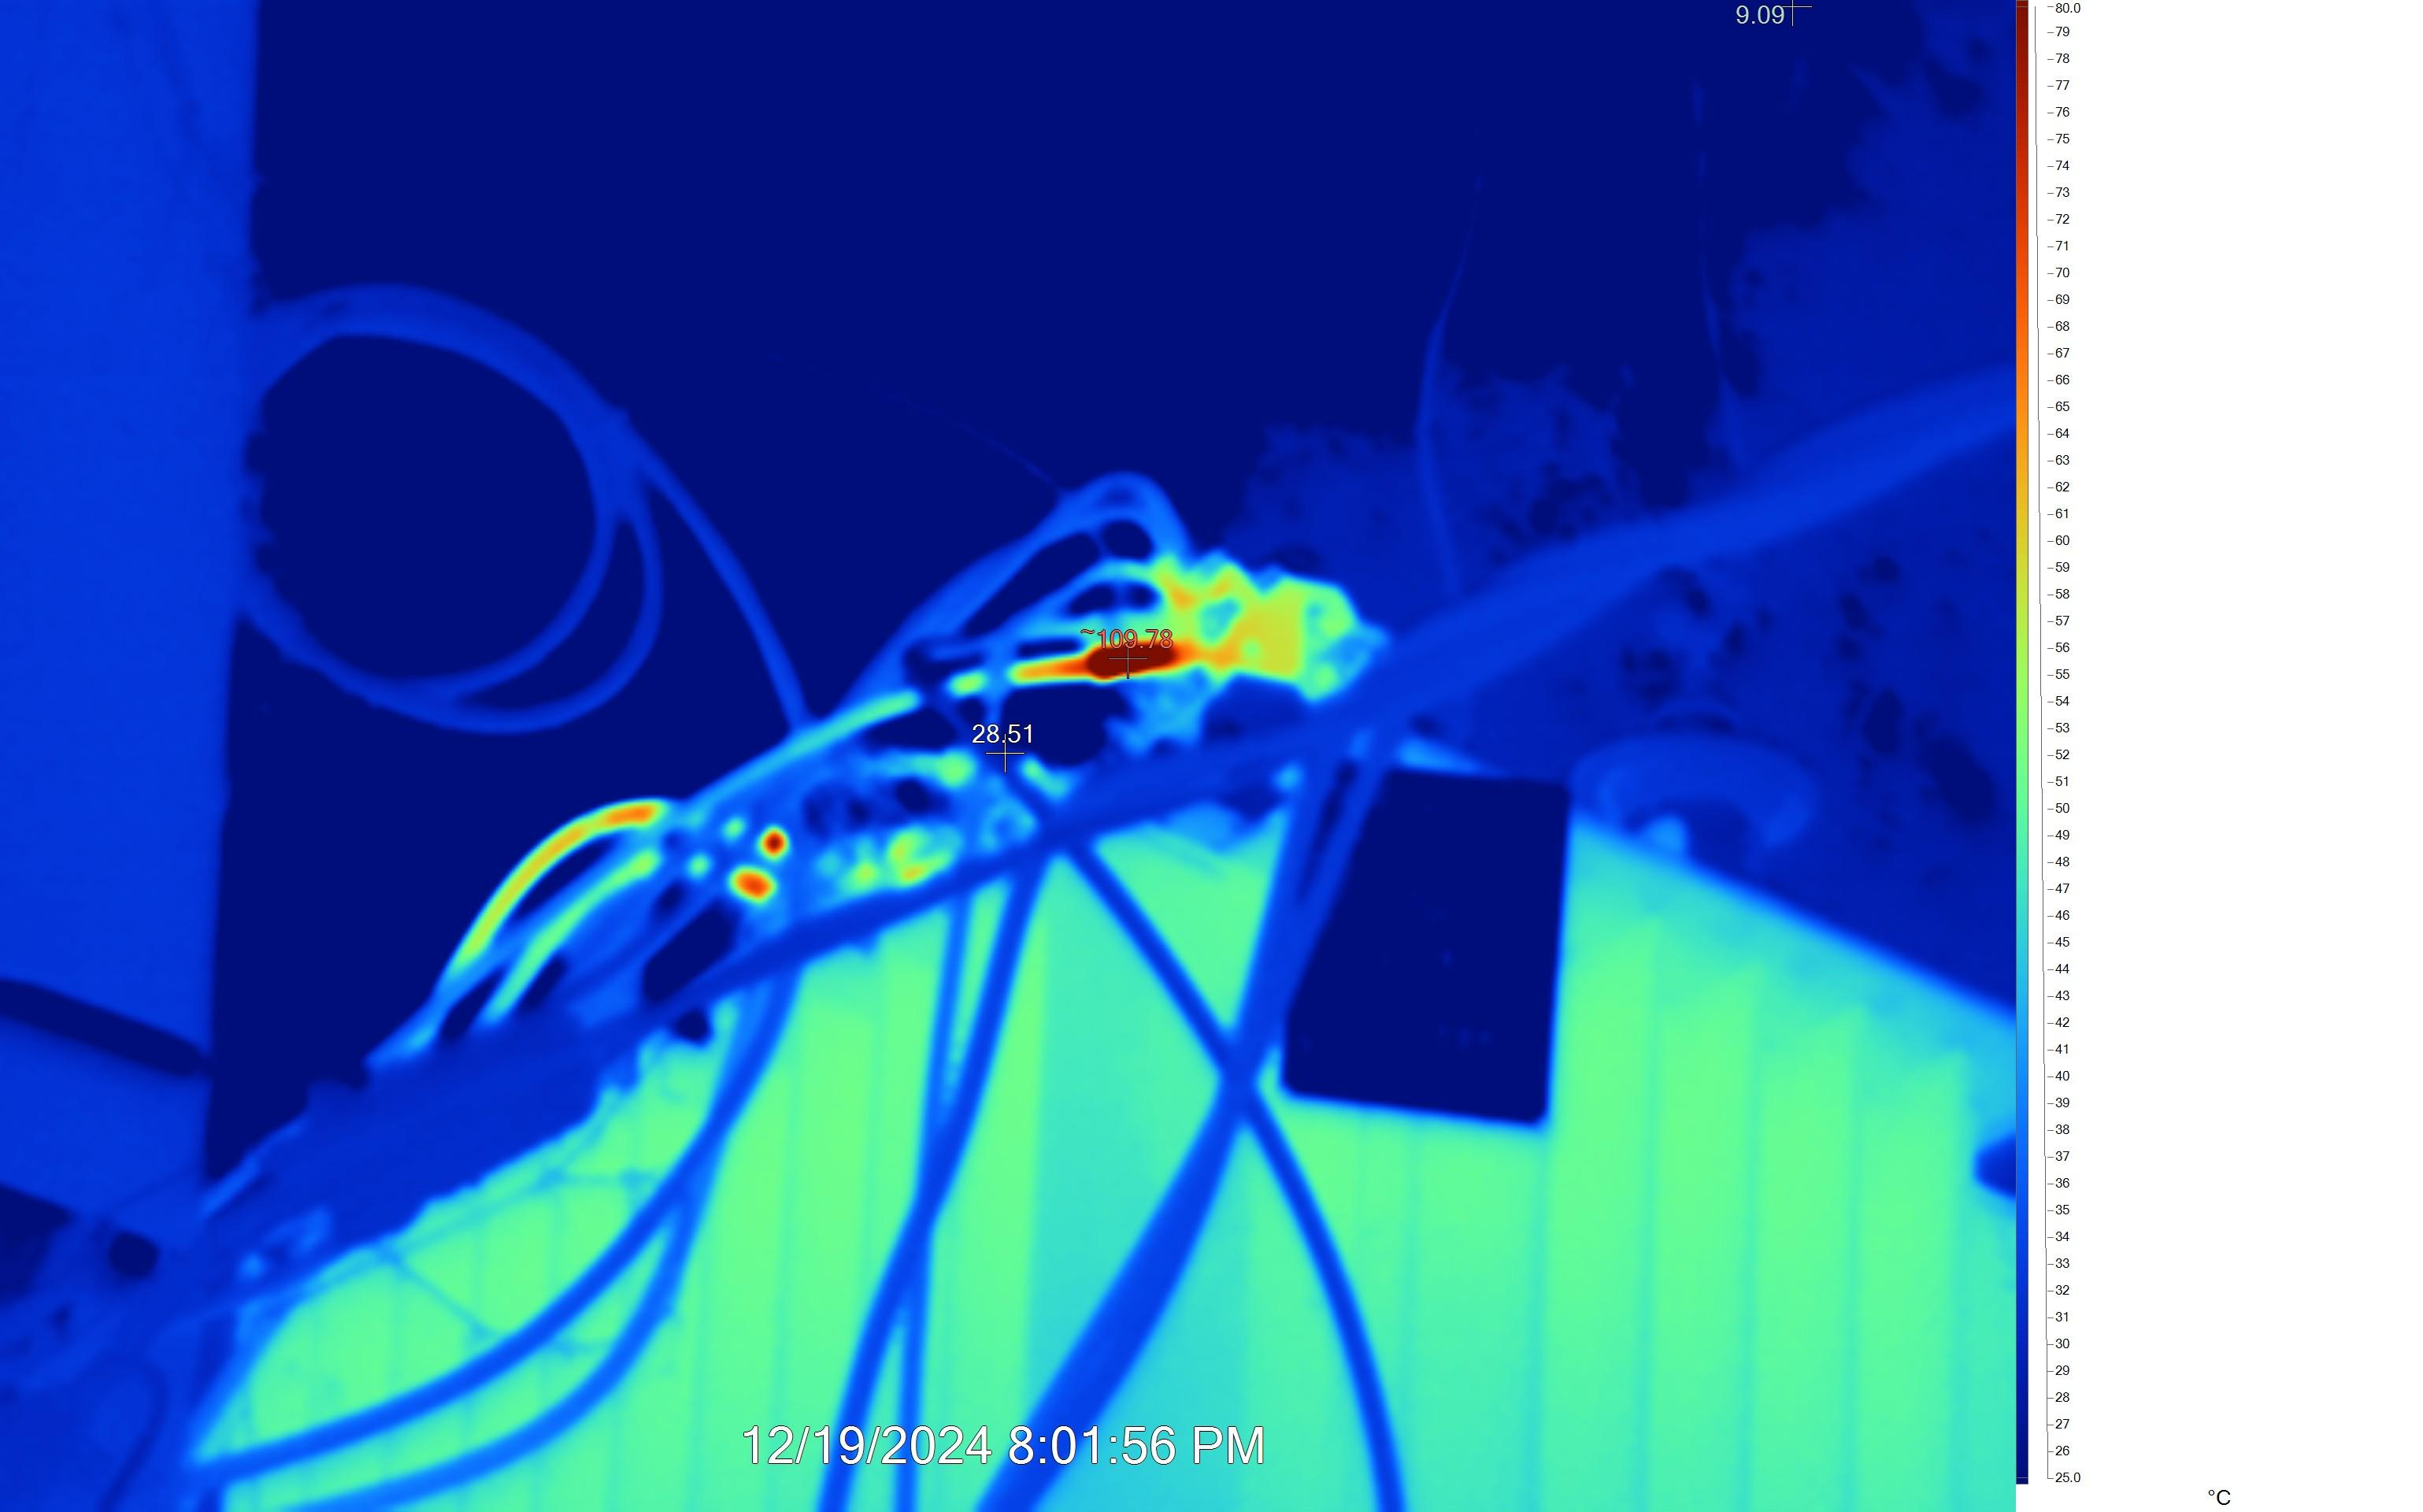Full wire overload: (441, 596, 1286, 1078)
normal: (254, 899, 1989, 1512)
